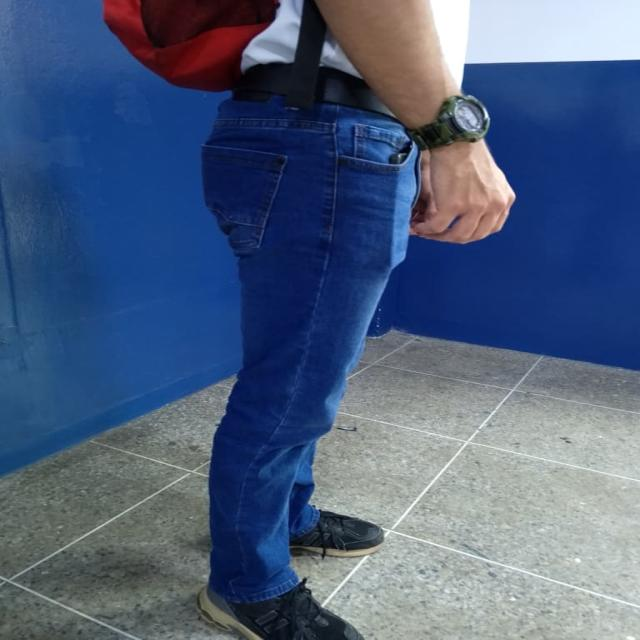pantalon_oscuro: (200, 85, 423, 603)
